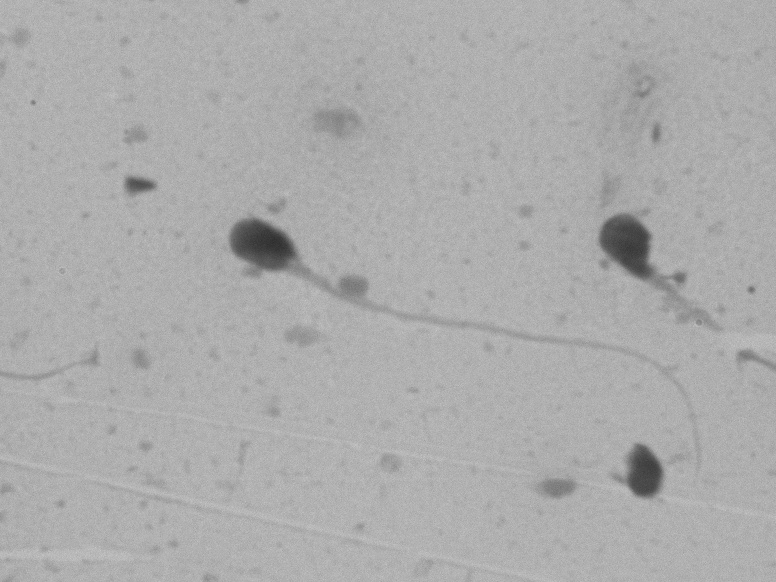Abnormal: (219, 198, 547, 432), (576, 195, 737, 346)
